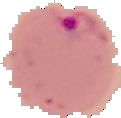parasitized: (20, 10, 114, 114), (54, 12, 110, 48)
